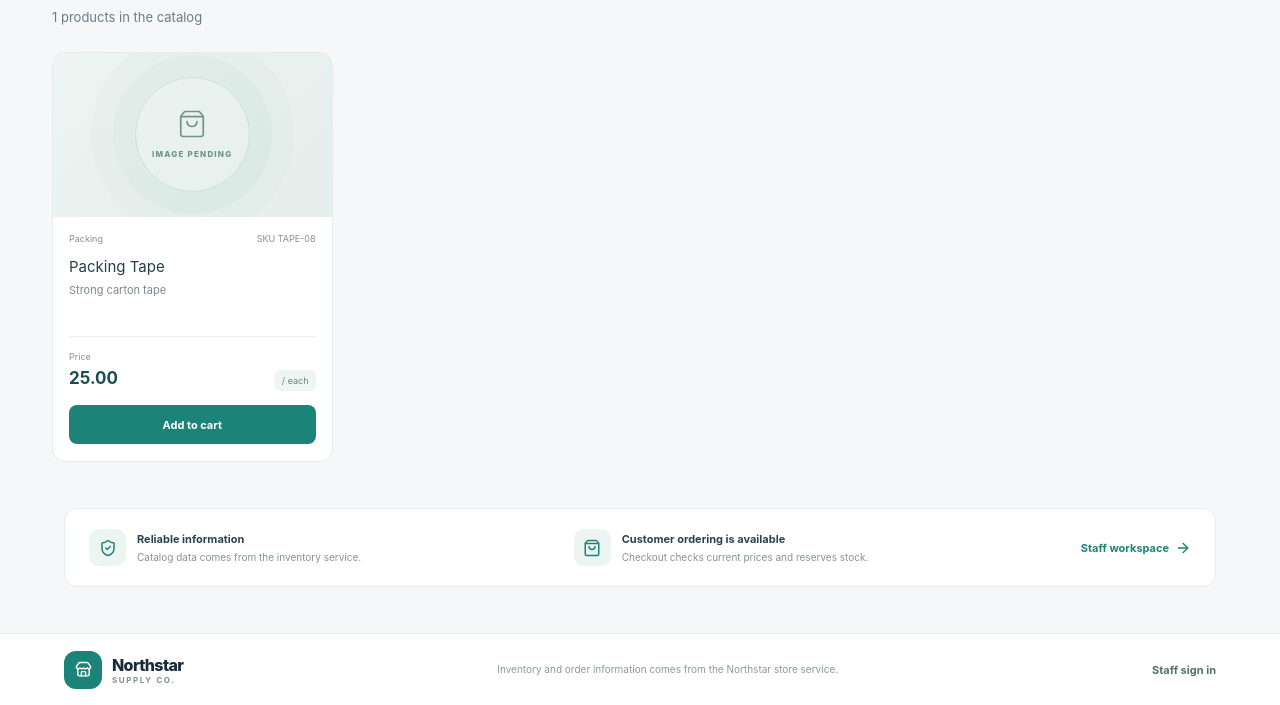
Test: customer portal › adds a current catalog product to the authenticated customer cart
(page scrolled)
Click the button "Add to cart". click: point(192, 425)
box: x1=69 y1=405 x2=316 y2=444
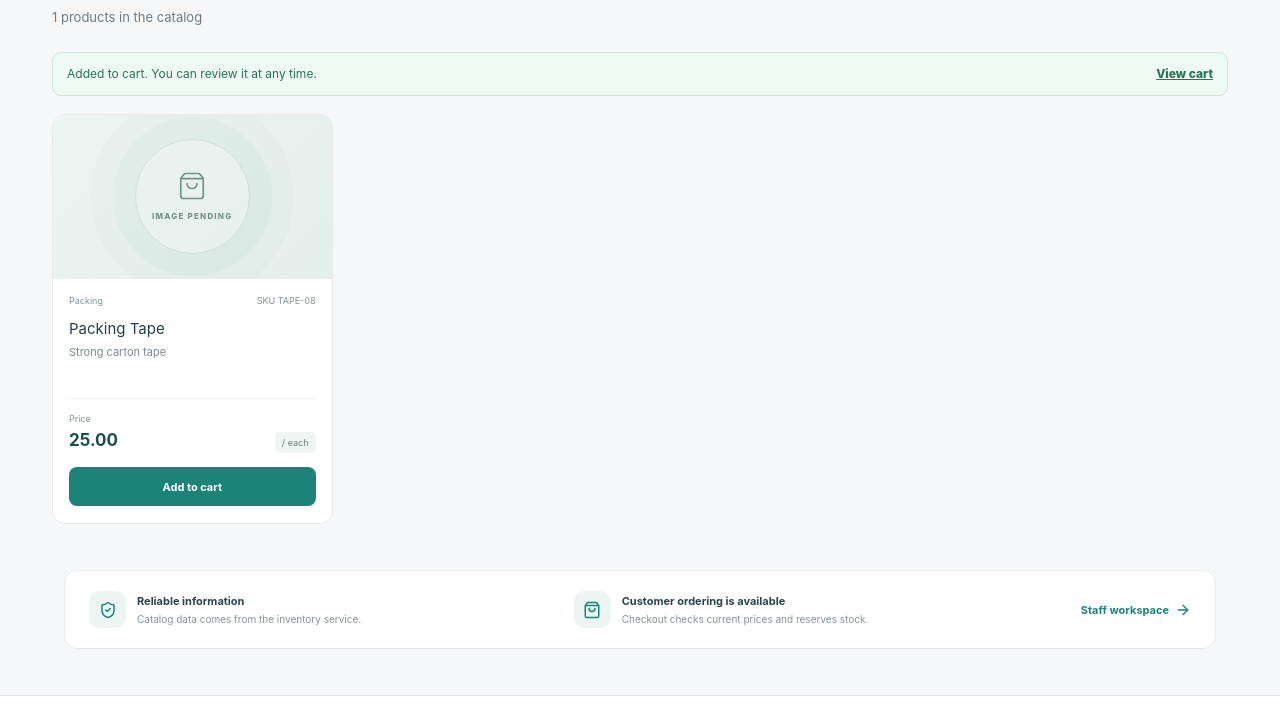
Result: the message shows "Added to cart" at x1=67 y1=66 x2=317 y2=80
